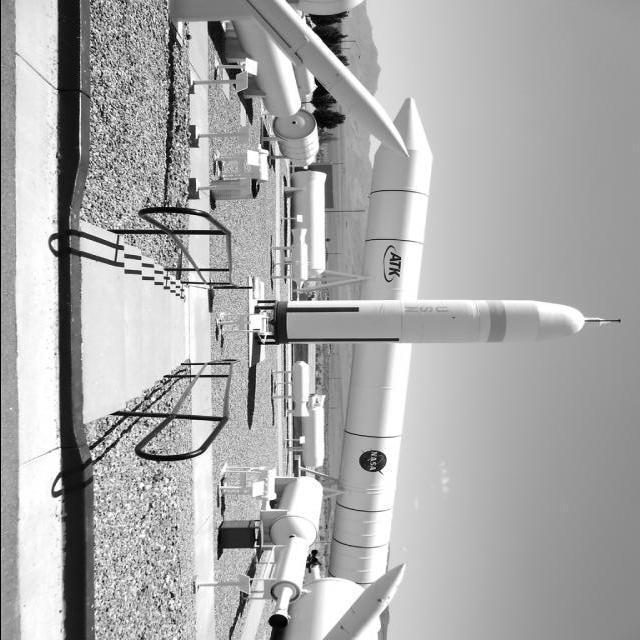missile: (352, 96, 432, 606), (252, 0, 412, 163), (250, 292, 622, 349)
